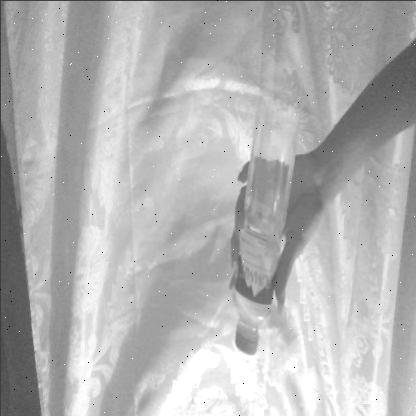Plastic Bottle: (221, 70, 306, 367)
